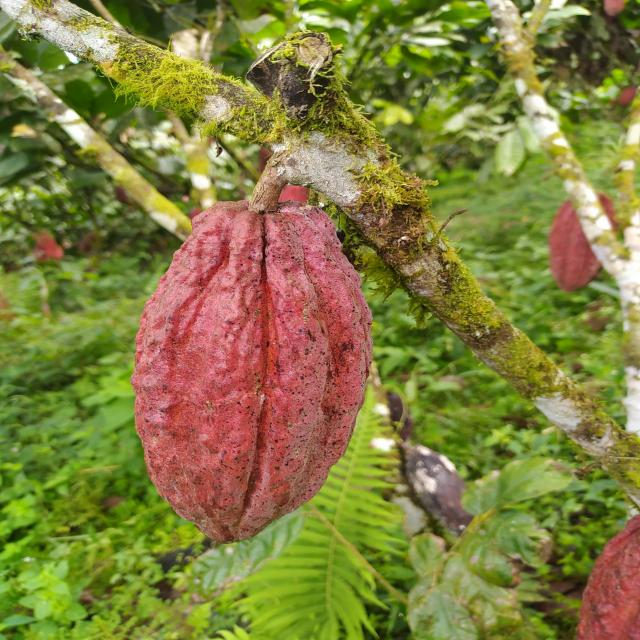Sana: (132, 195, 372, 545)
